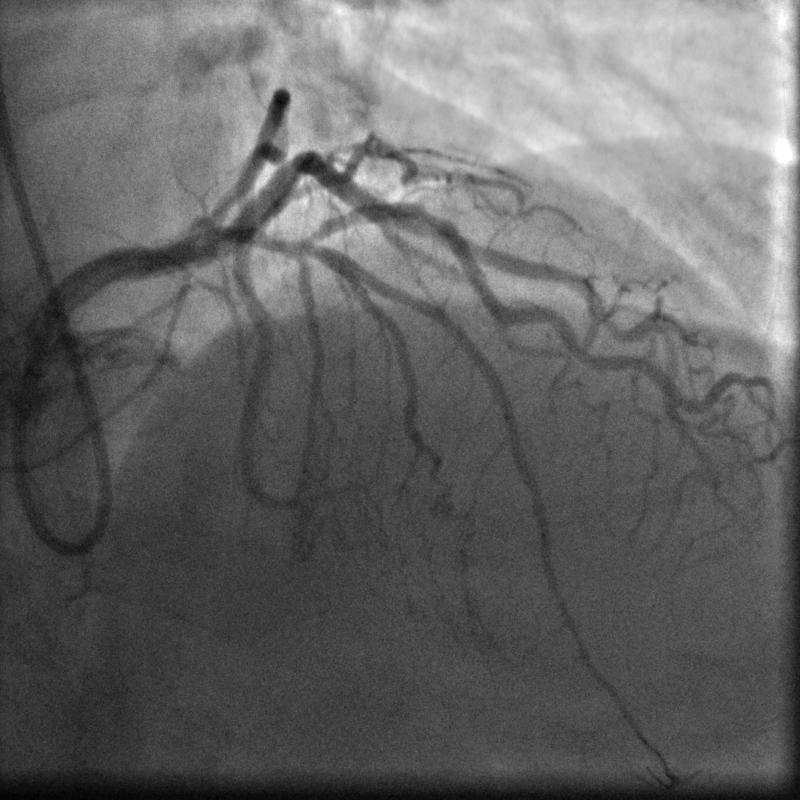Stenosis: (400, 197, 458, 233)
